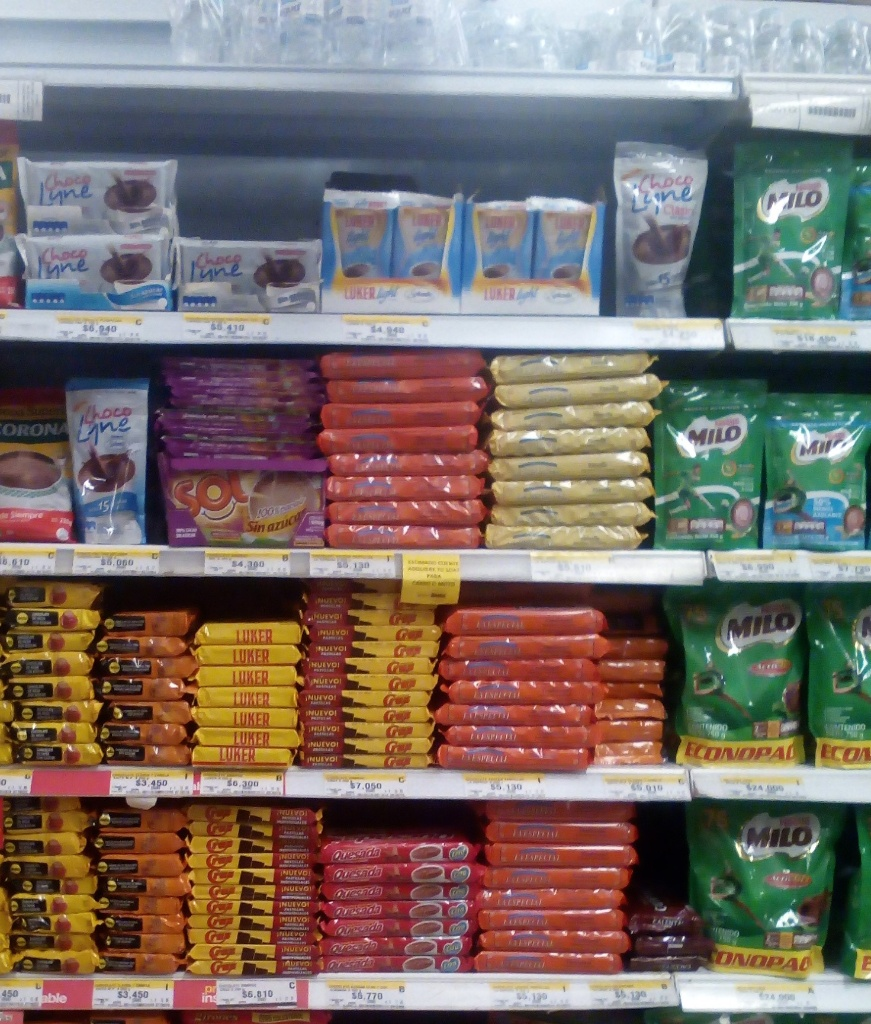COL0170203DYP25000: (731, 135, 856, 315)
COL0170205DYP20000: (761, 387, 868, 552)
